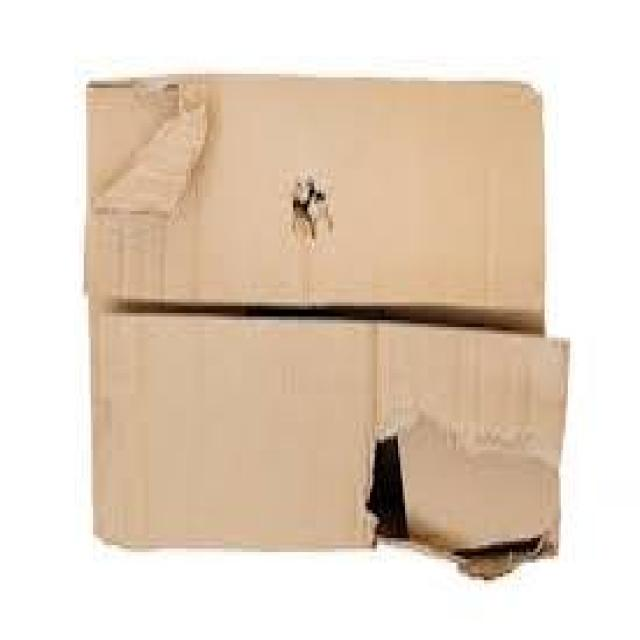package_damage: (85, 268, 582, 367), (82, 67, 215, 225), (439, 522, 581, 619), (352, 410, 431, 558), (278, 171, 355, 257)
